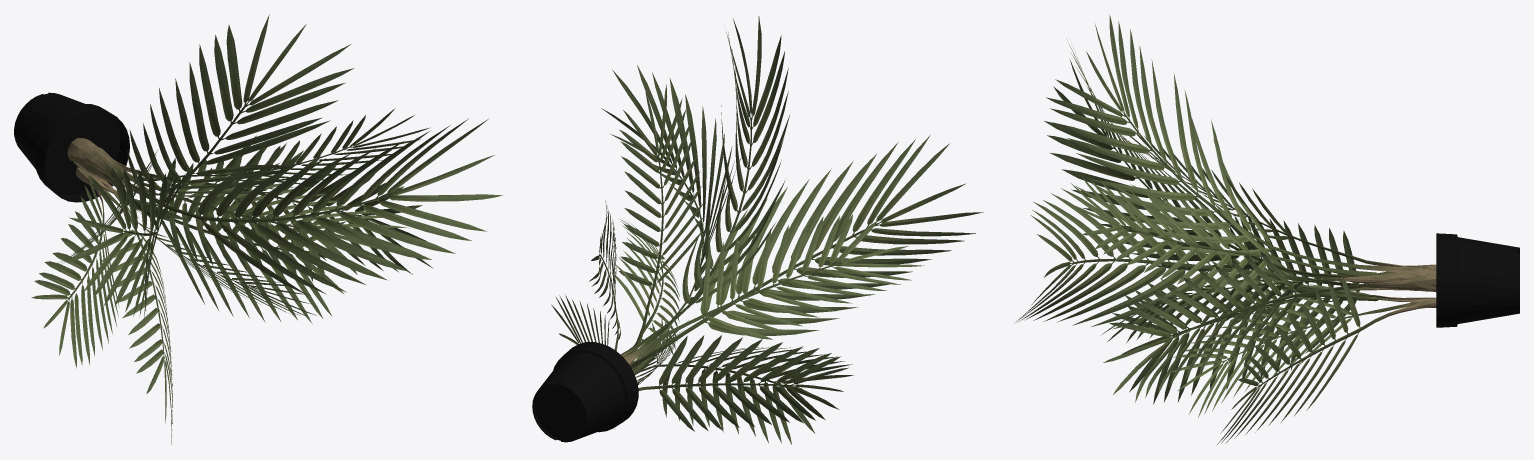
Rendered from Cây cọ cảnh.glb.
3 renders of one model, left to right at view 1: azimuth 30°, elevation 25°; view 2: azimuth 150°, elevation 25°; view 3: azimuth 270°, elevation 25°, orthographic. The views are drawn at different scales.
Visible parts, largest first — view 1: Object_4; view 2: Object_4; view 3: Object_4.
Part boxes in pixels (box(x1,y1,x2,y2)): Object_4: box(14, 14, 502, 444); Object_4: box(532, 16, 983, 444); Object_4: box(1015, 15, 1519, 444).
Bounding box in the file's own units: 0.6316 × 0.6144 × 0.6802.
Materials: 1 (1 with a texture image).
